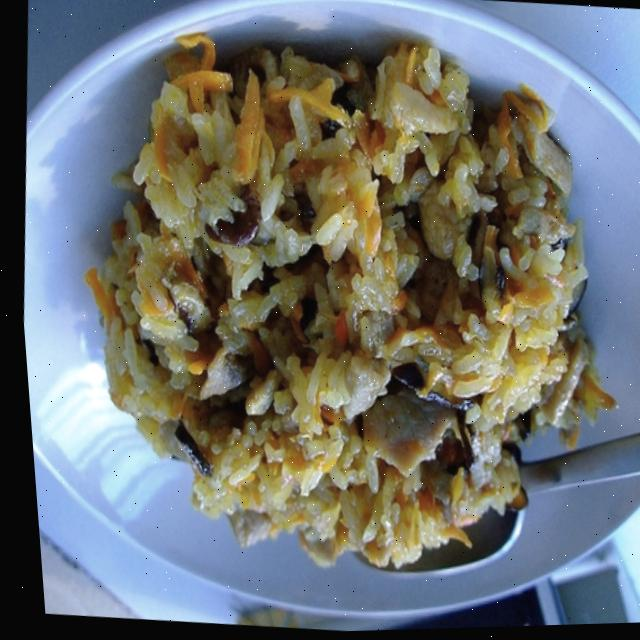米饭主食: (32, 5, 638, 596)
